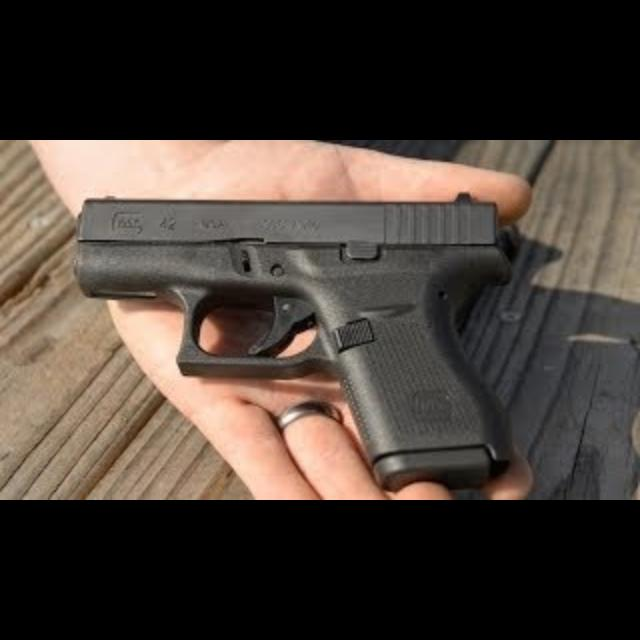handgun: (69, 188, 529, 496)
